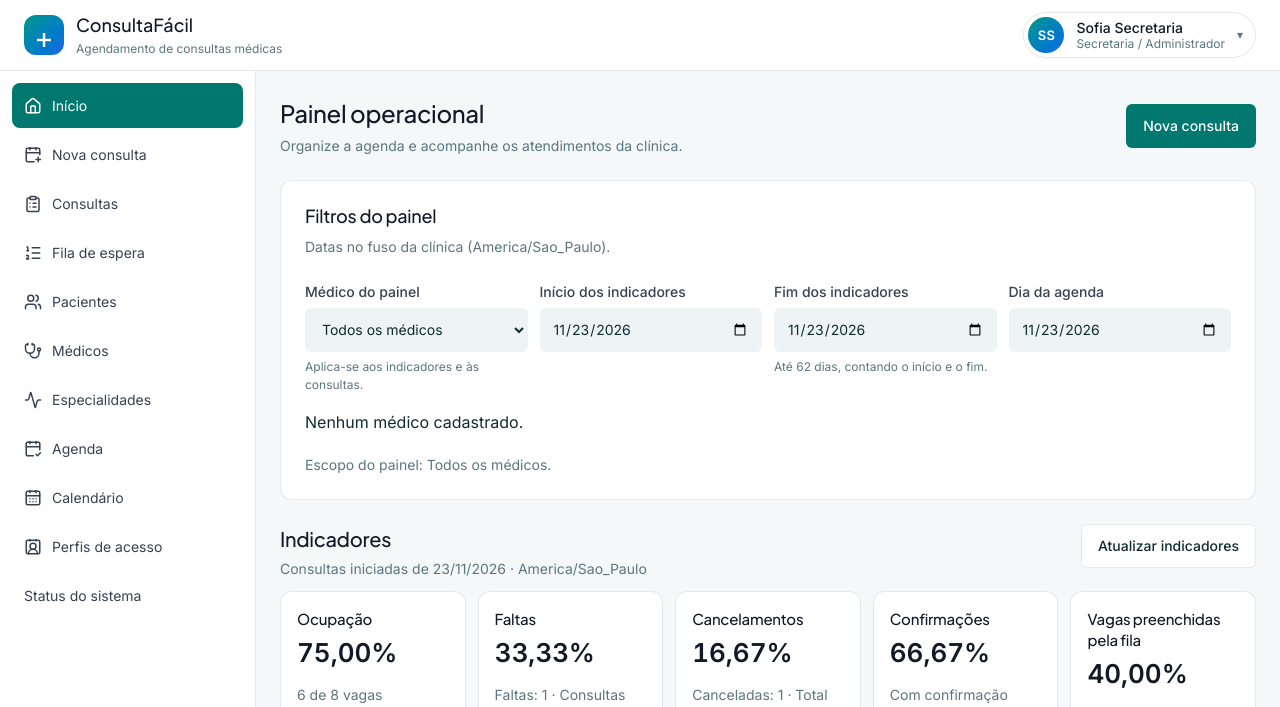
Test: roteamento › navega para a página de status pelo menu
The width and height of the screenshot is (1280, 707).
Click the link "Status do sistema" at (83, 596), box [24,587,142,604]
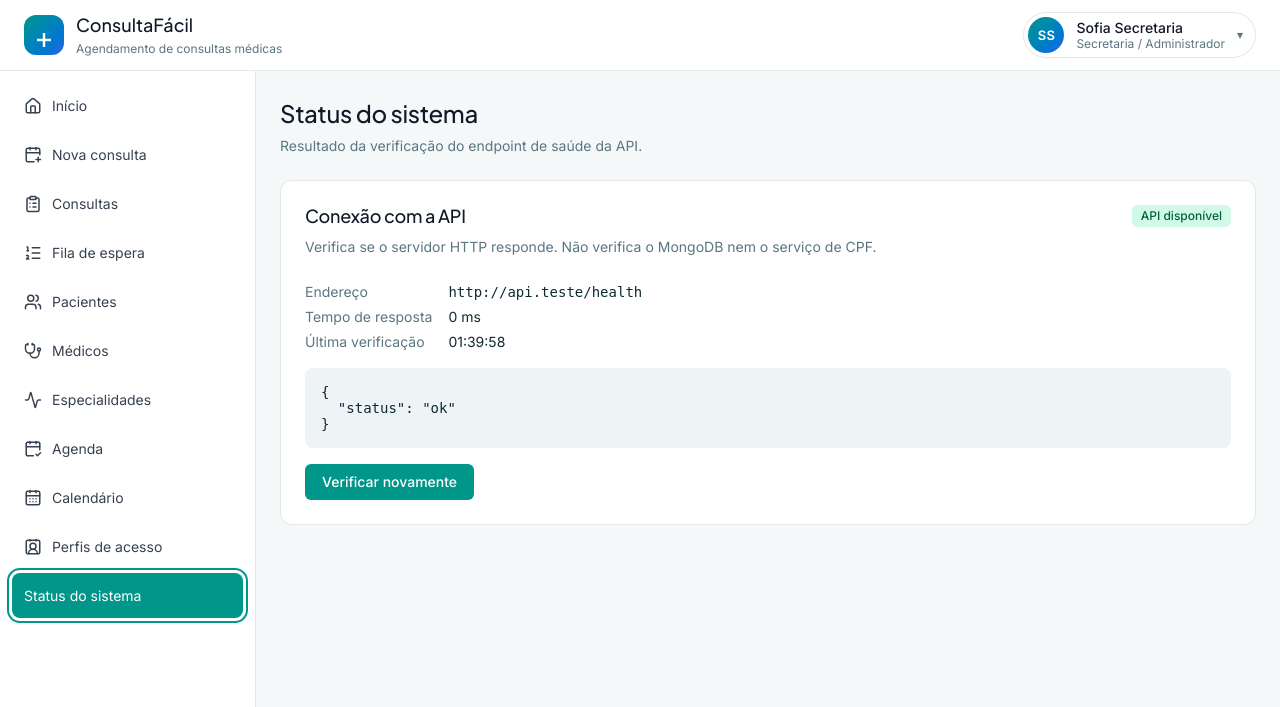
Now the heading "Status do sistema" is shown, box [280,98,478,128]
